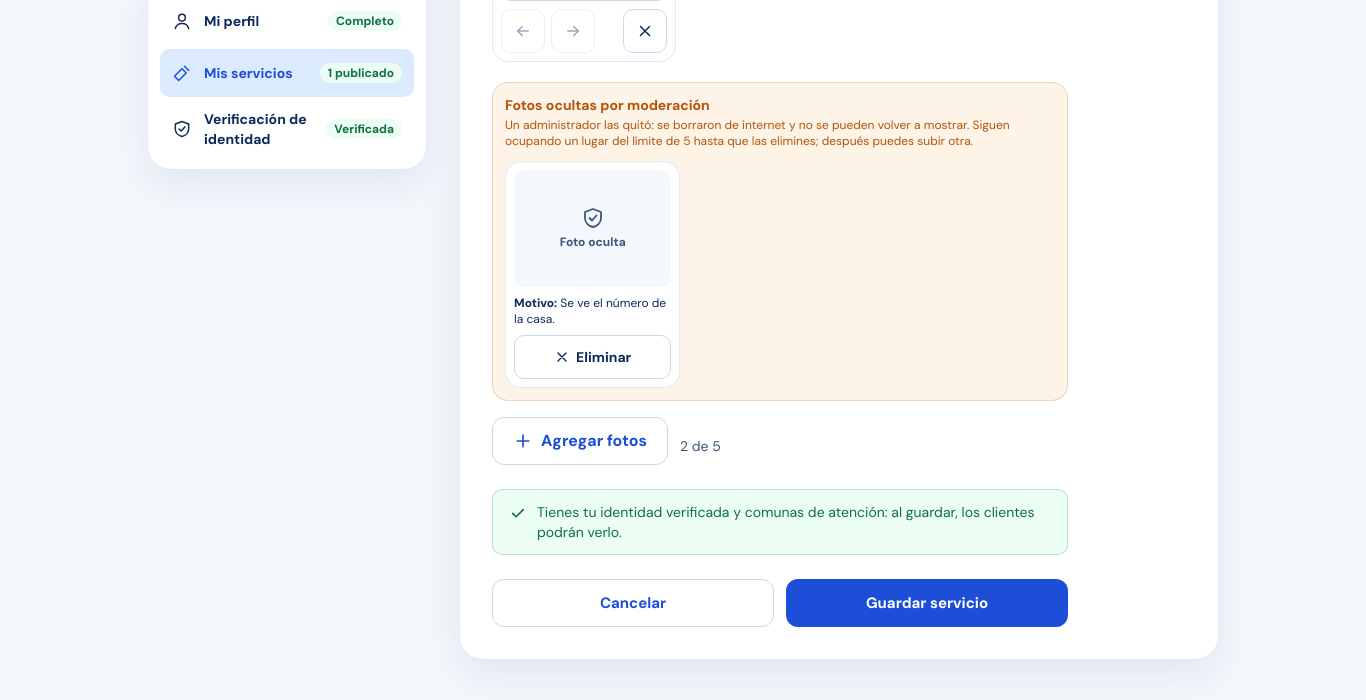
Test case: Fotos en el formulario de servicio (editar) › el prestador puede eliminar una foto oculta y libera su lugar
This screenshot has width=1366, height=700.
(page scrolled)
Click the button "Eliminar".
click(593, 358)  # box x1=514 y1=336 x2=671 y2=380
(page scrolled)
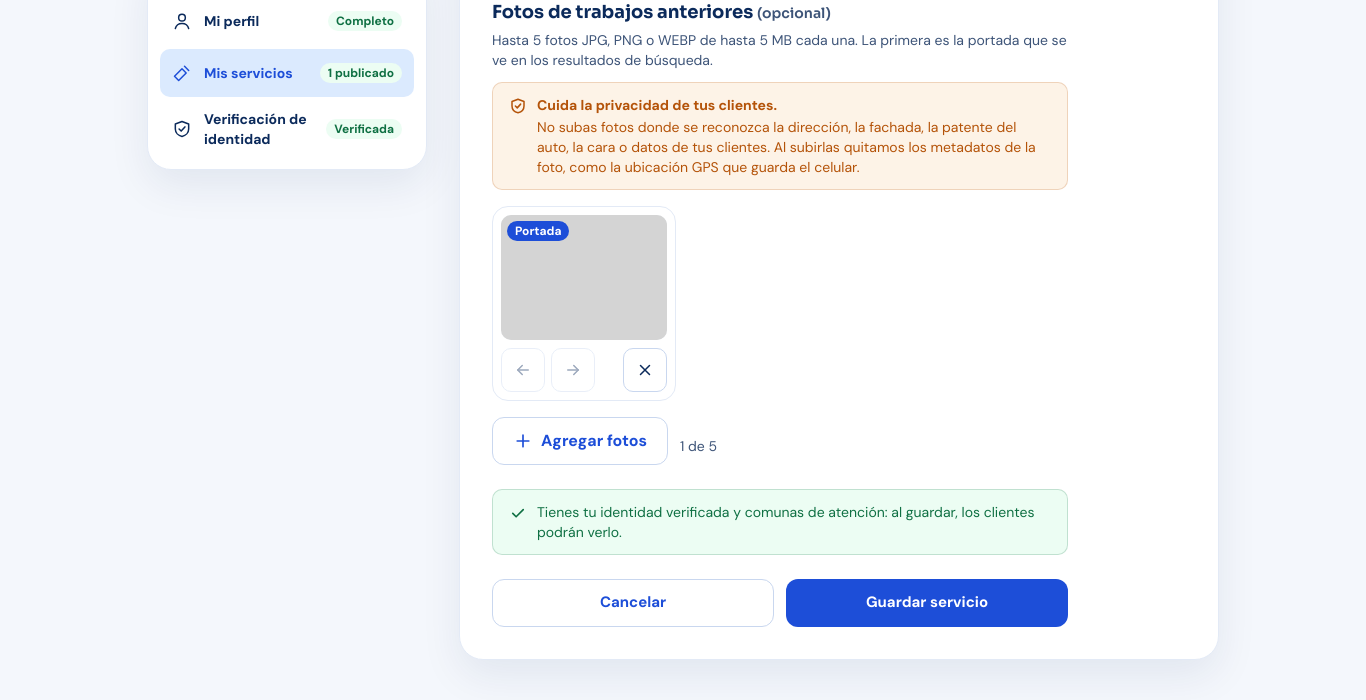
Expected: the heading "Fotos ocultas por moderación" is gone
Expected: the text "1 de 5" is shown, x1=680 y1=436 x2=717 y2=454
